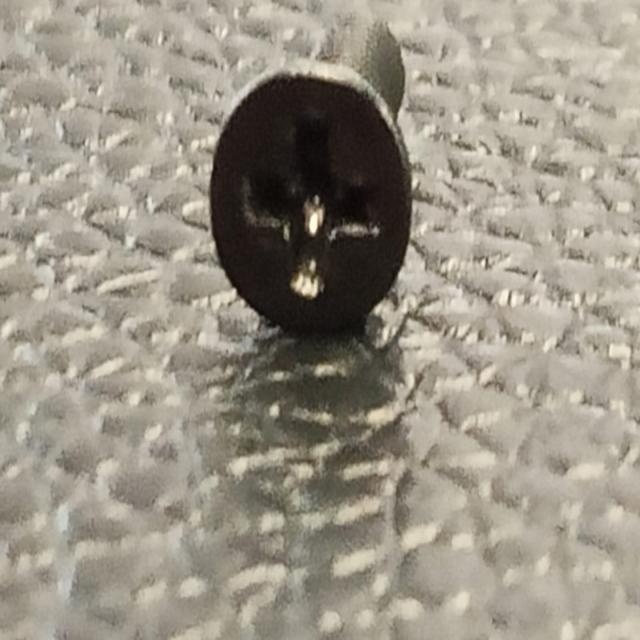phillips: (208, 58, 413, 342)
